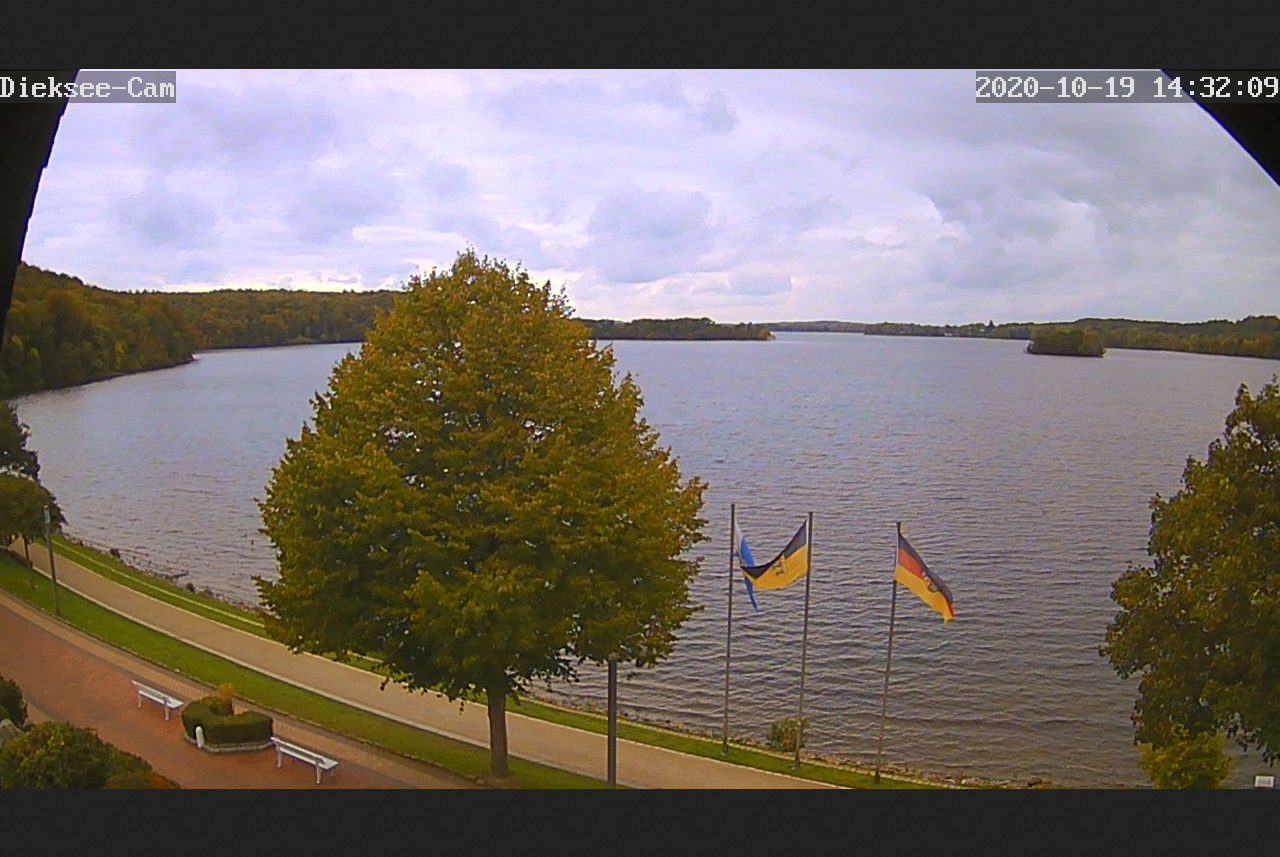maybe: (890, 527, 963, 632), (744, 515, 812, 598), (733, 518, 763, 615)
